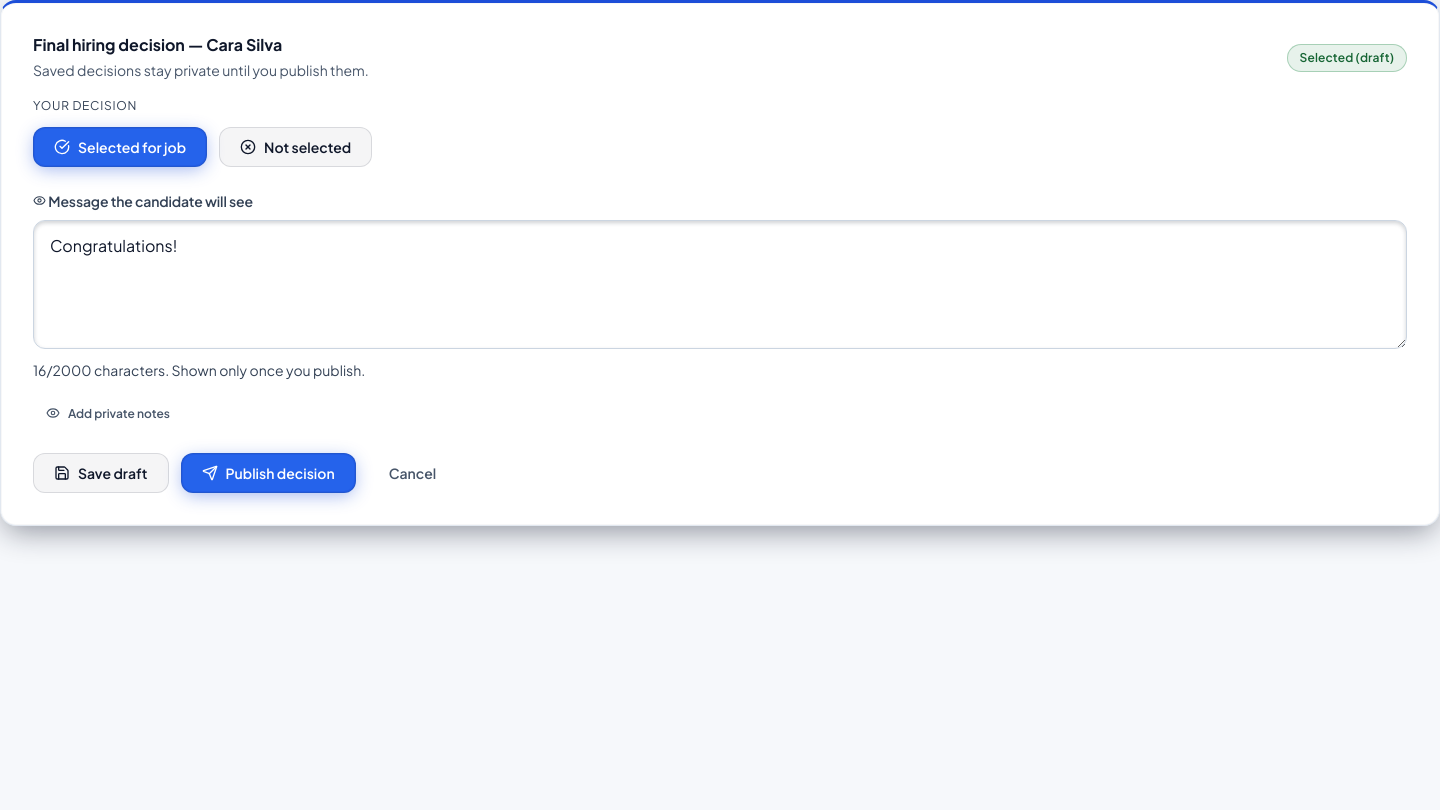
Test: cancelling the confirmation announces nothing
The image size is (1440, 810).
Click the button "Publish decision" at [268, 473], box [180, 453, 356, 493]
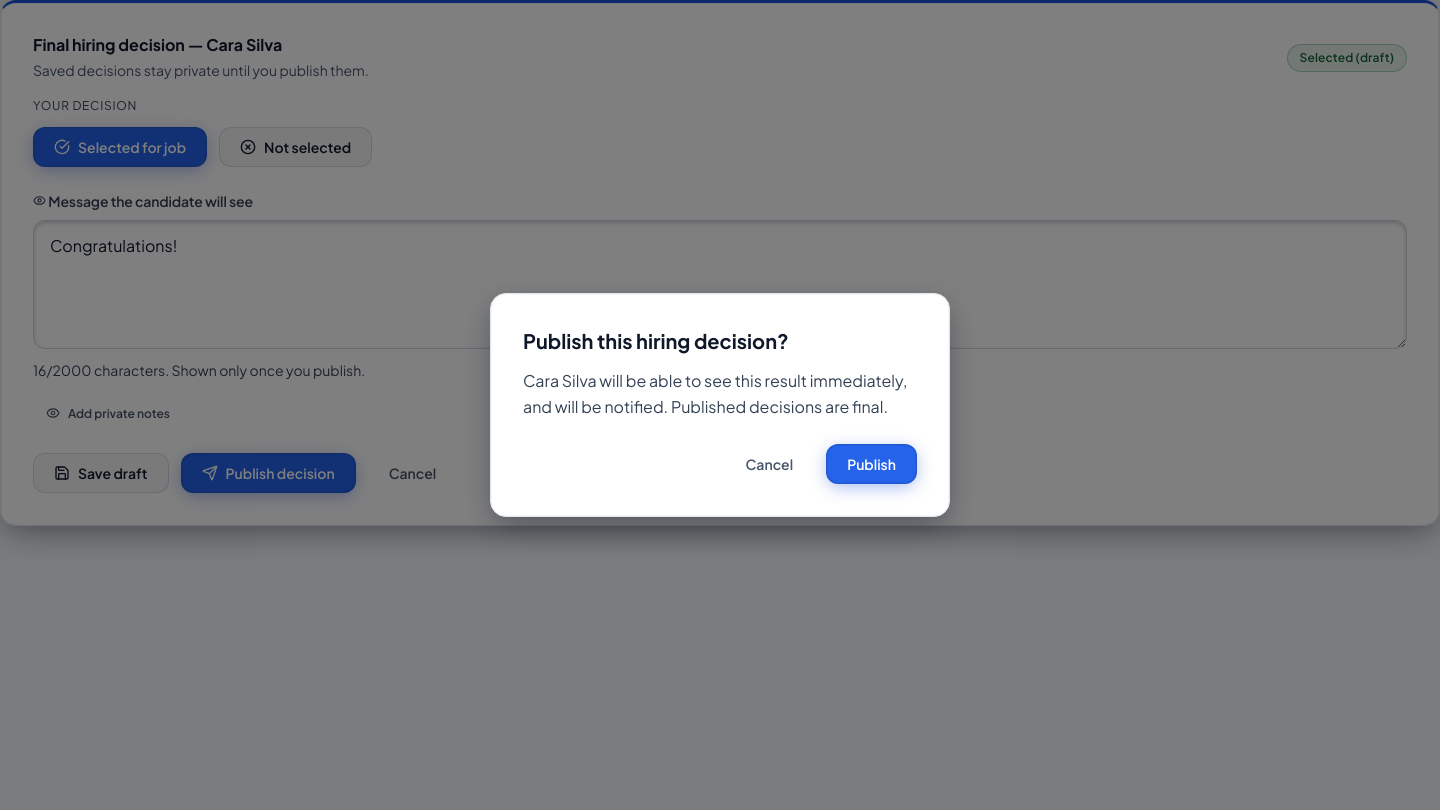
Click the button "Cancel" at [769, 464], box [725, 444, 814, 484]
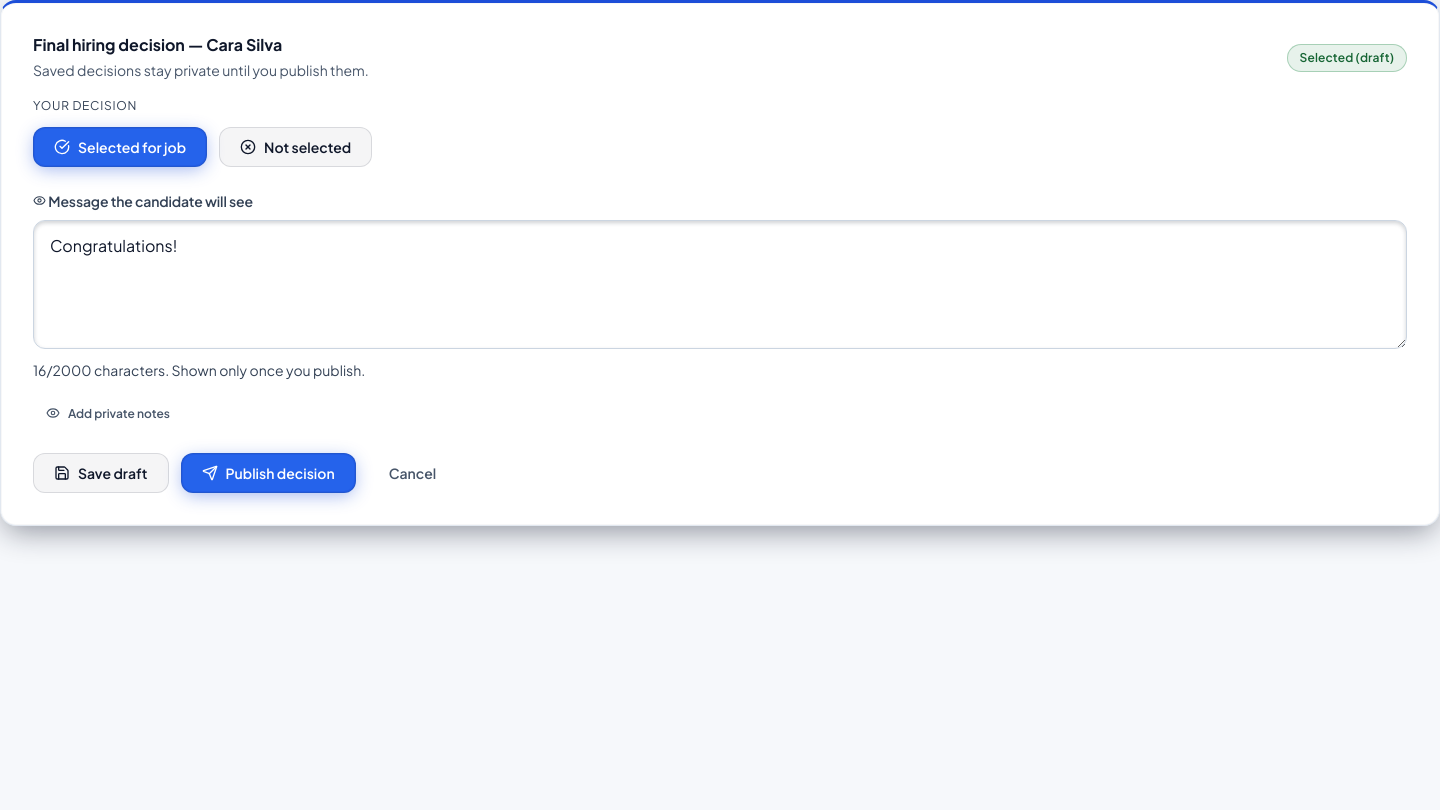
Result: the dialog is gone
